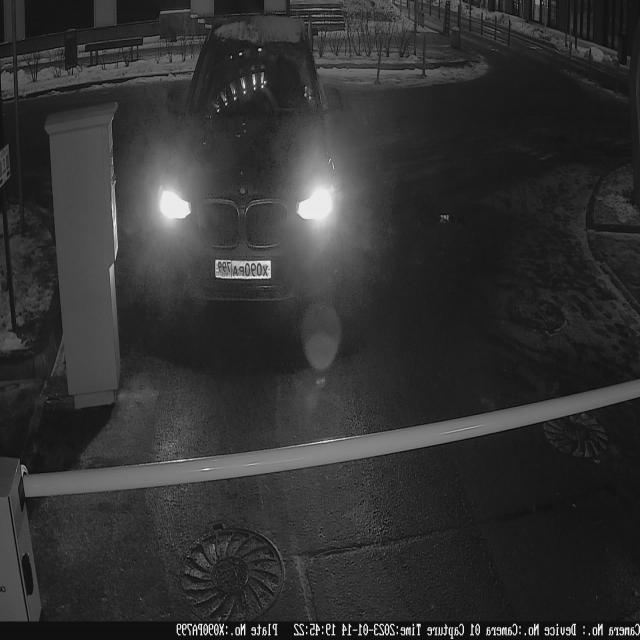car-plate-numbers: (214, 251, 276, 293)
